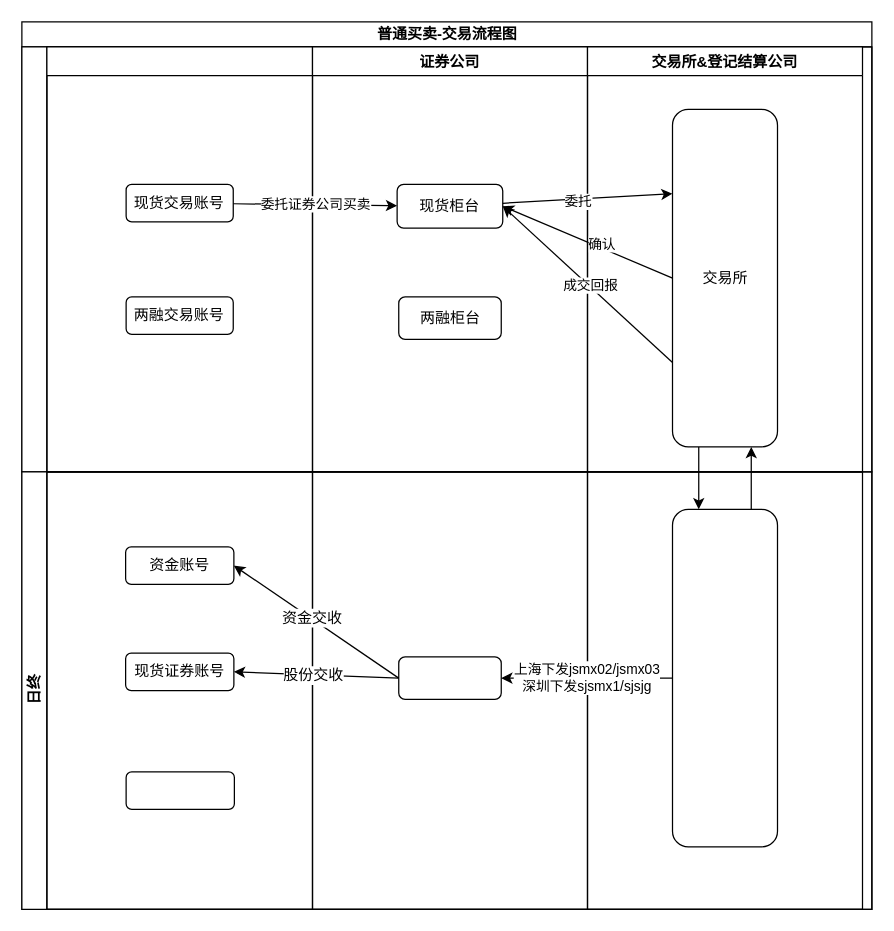
The diagram is 894 pixels wide and 931 high, and some of its shapes have lost their labels. Here are the shapes that lost their labels. From the top down, the box of each, then its label:
(46, 46, 312, 472): 投资人
(21, 46, 872, 472): 日间
(398, 656, 501, 699): 清算系统
(671, 508, 778, 847): 登记结算公司
(125, 771, 234, 809): 两融证券账号
